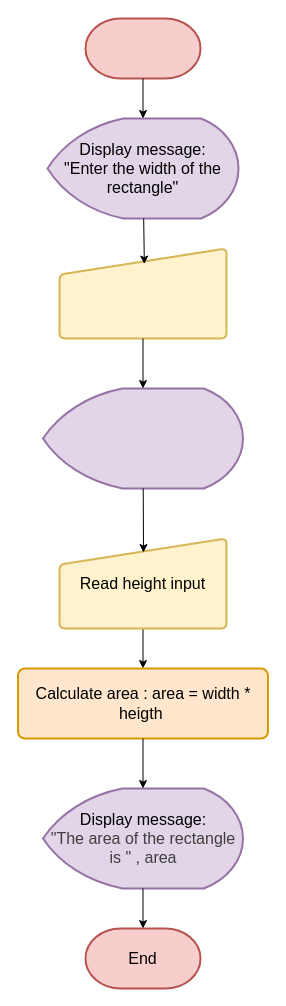
Some shapes in this 286 by 1006 pixel diagram are drawn without their labels. The box of each missing label's shape, as (x1, y1, x2, y2) in pixels:
Display message: "Enter the height of the rectangle": (42, 387, 244, 489)
Read width input: (58, 247, 227, 339)
start: (84, 17, 201, 79)
